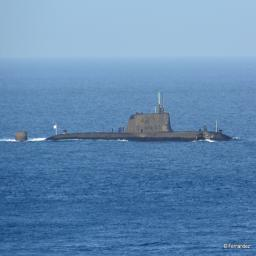submarine: (14, 92, 232, 140)
